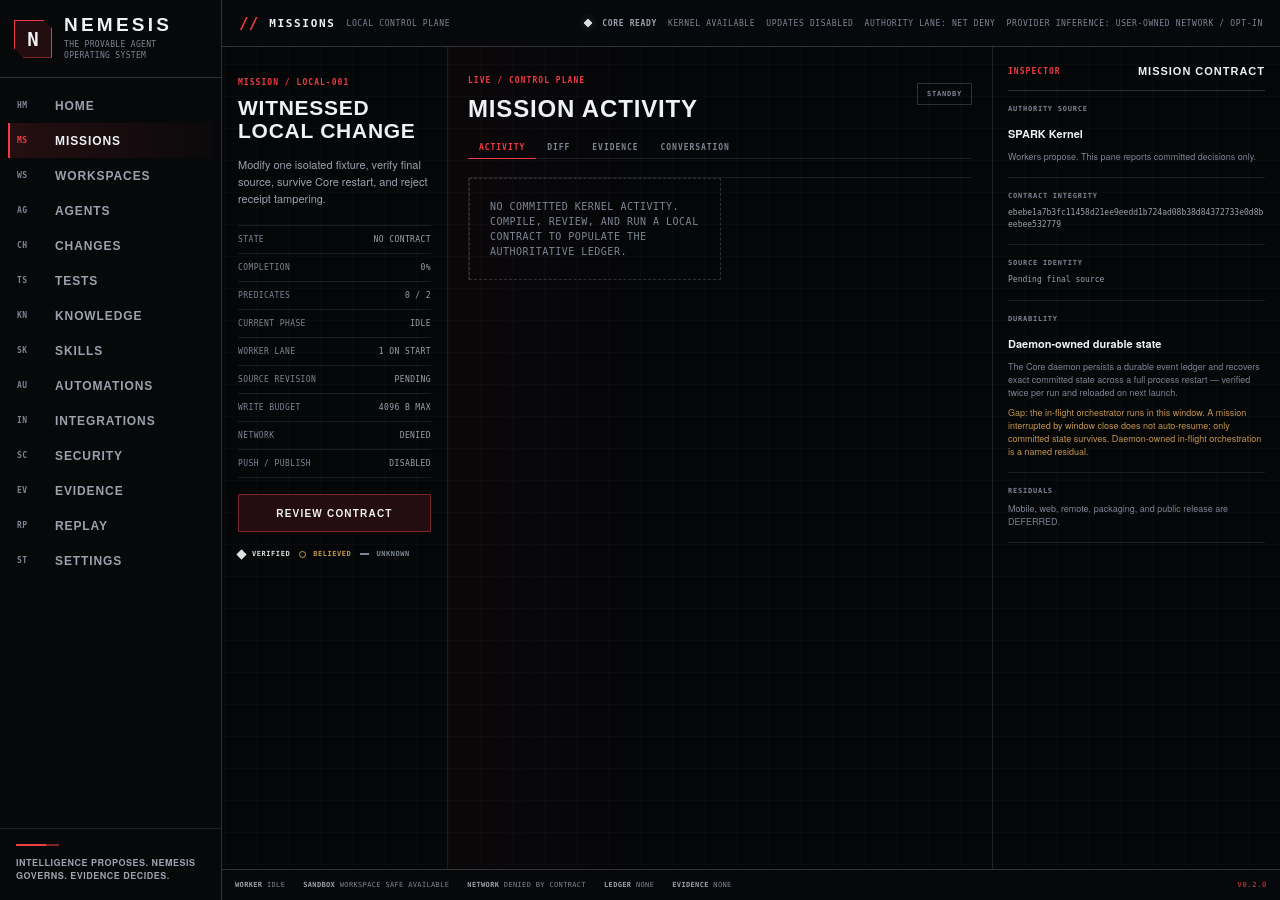
it: NEMESIS Desktop production surface › renders the governed Skills rail through the shared authority shell
Step 1. Click the button "SK Skills" → click(110, 350), box [8,333,213,368]
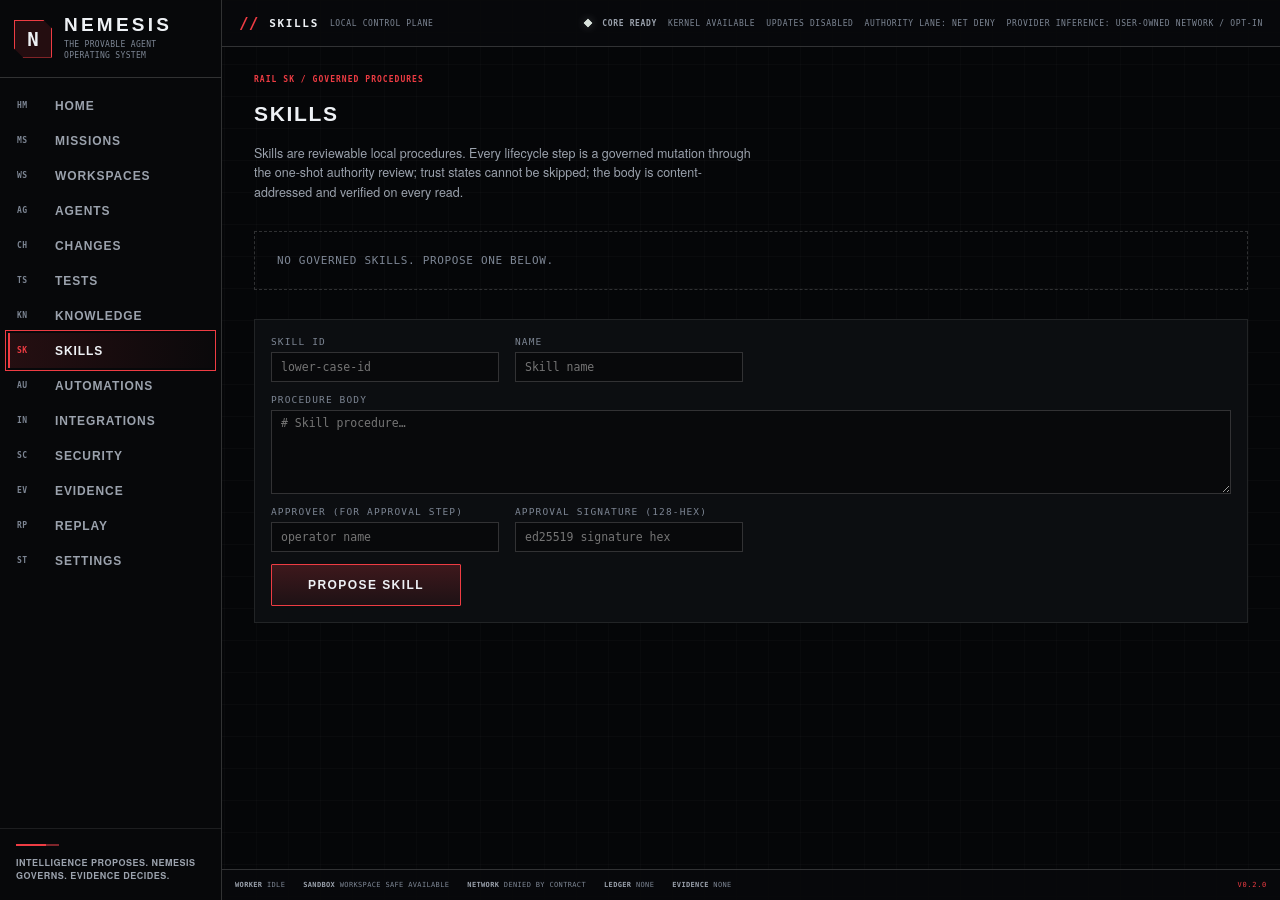
Result: the heading "Skills" is shown at [254,102,339,125]
